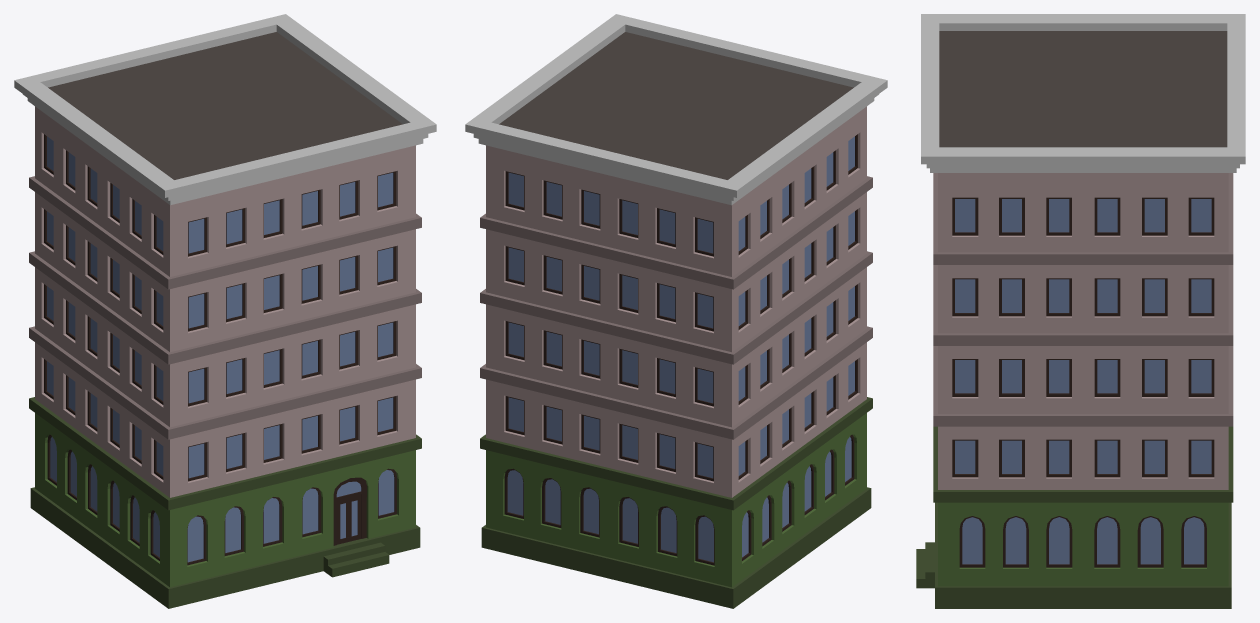
The model's file is GovernmentBuilding_09.fbx.
The picture shows the model from 3 angles, left to right: view 1: azimuth 30°, elevation 25°; view 2: azimuth 150°, elevation 25°; view 3: azimuth 270°, elevation 25°; orthographic projection. The views are drawn at different scales.
Parts seen in each view (by area): view 1: GovernmentBuilding_09; view 2: GovernmentBuilding_09; view 3: GovernmentBuilding_09.
Part boxes in pixels (left/top/right/bottom): GovernmentBuilding_09: left=14, top=14, right=436, bottom=608; GovernmentBuilding_09: left=465, top=14, right=887, bottom=608; GovernmentBuilding_09: left=916, top=14, right=1245, bottom=608.
Bounding box in the file's own units: 16.1 × 24.09 × 15.72.
